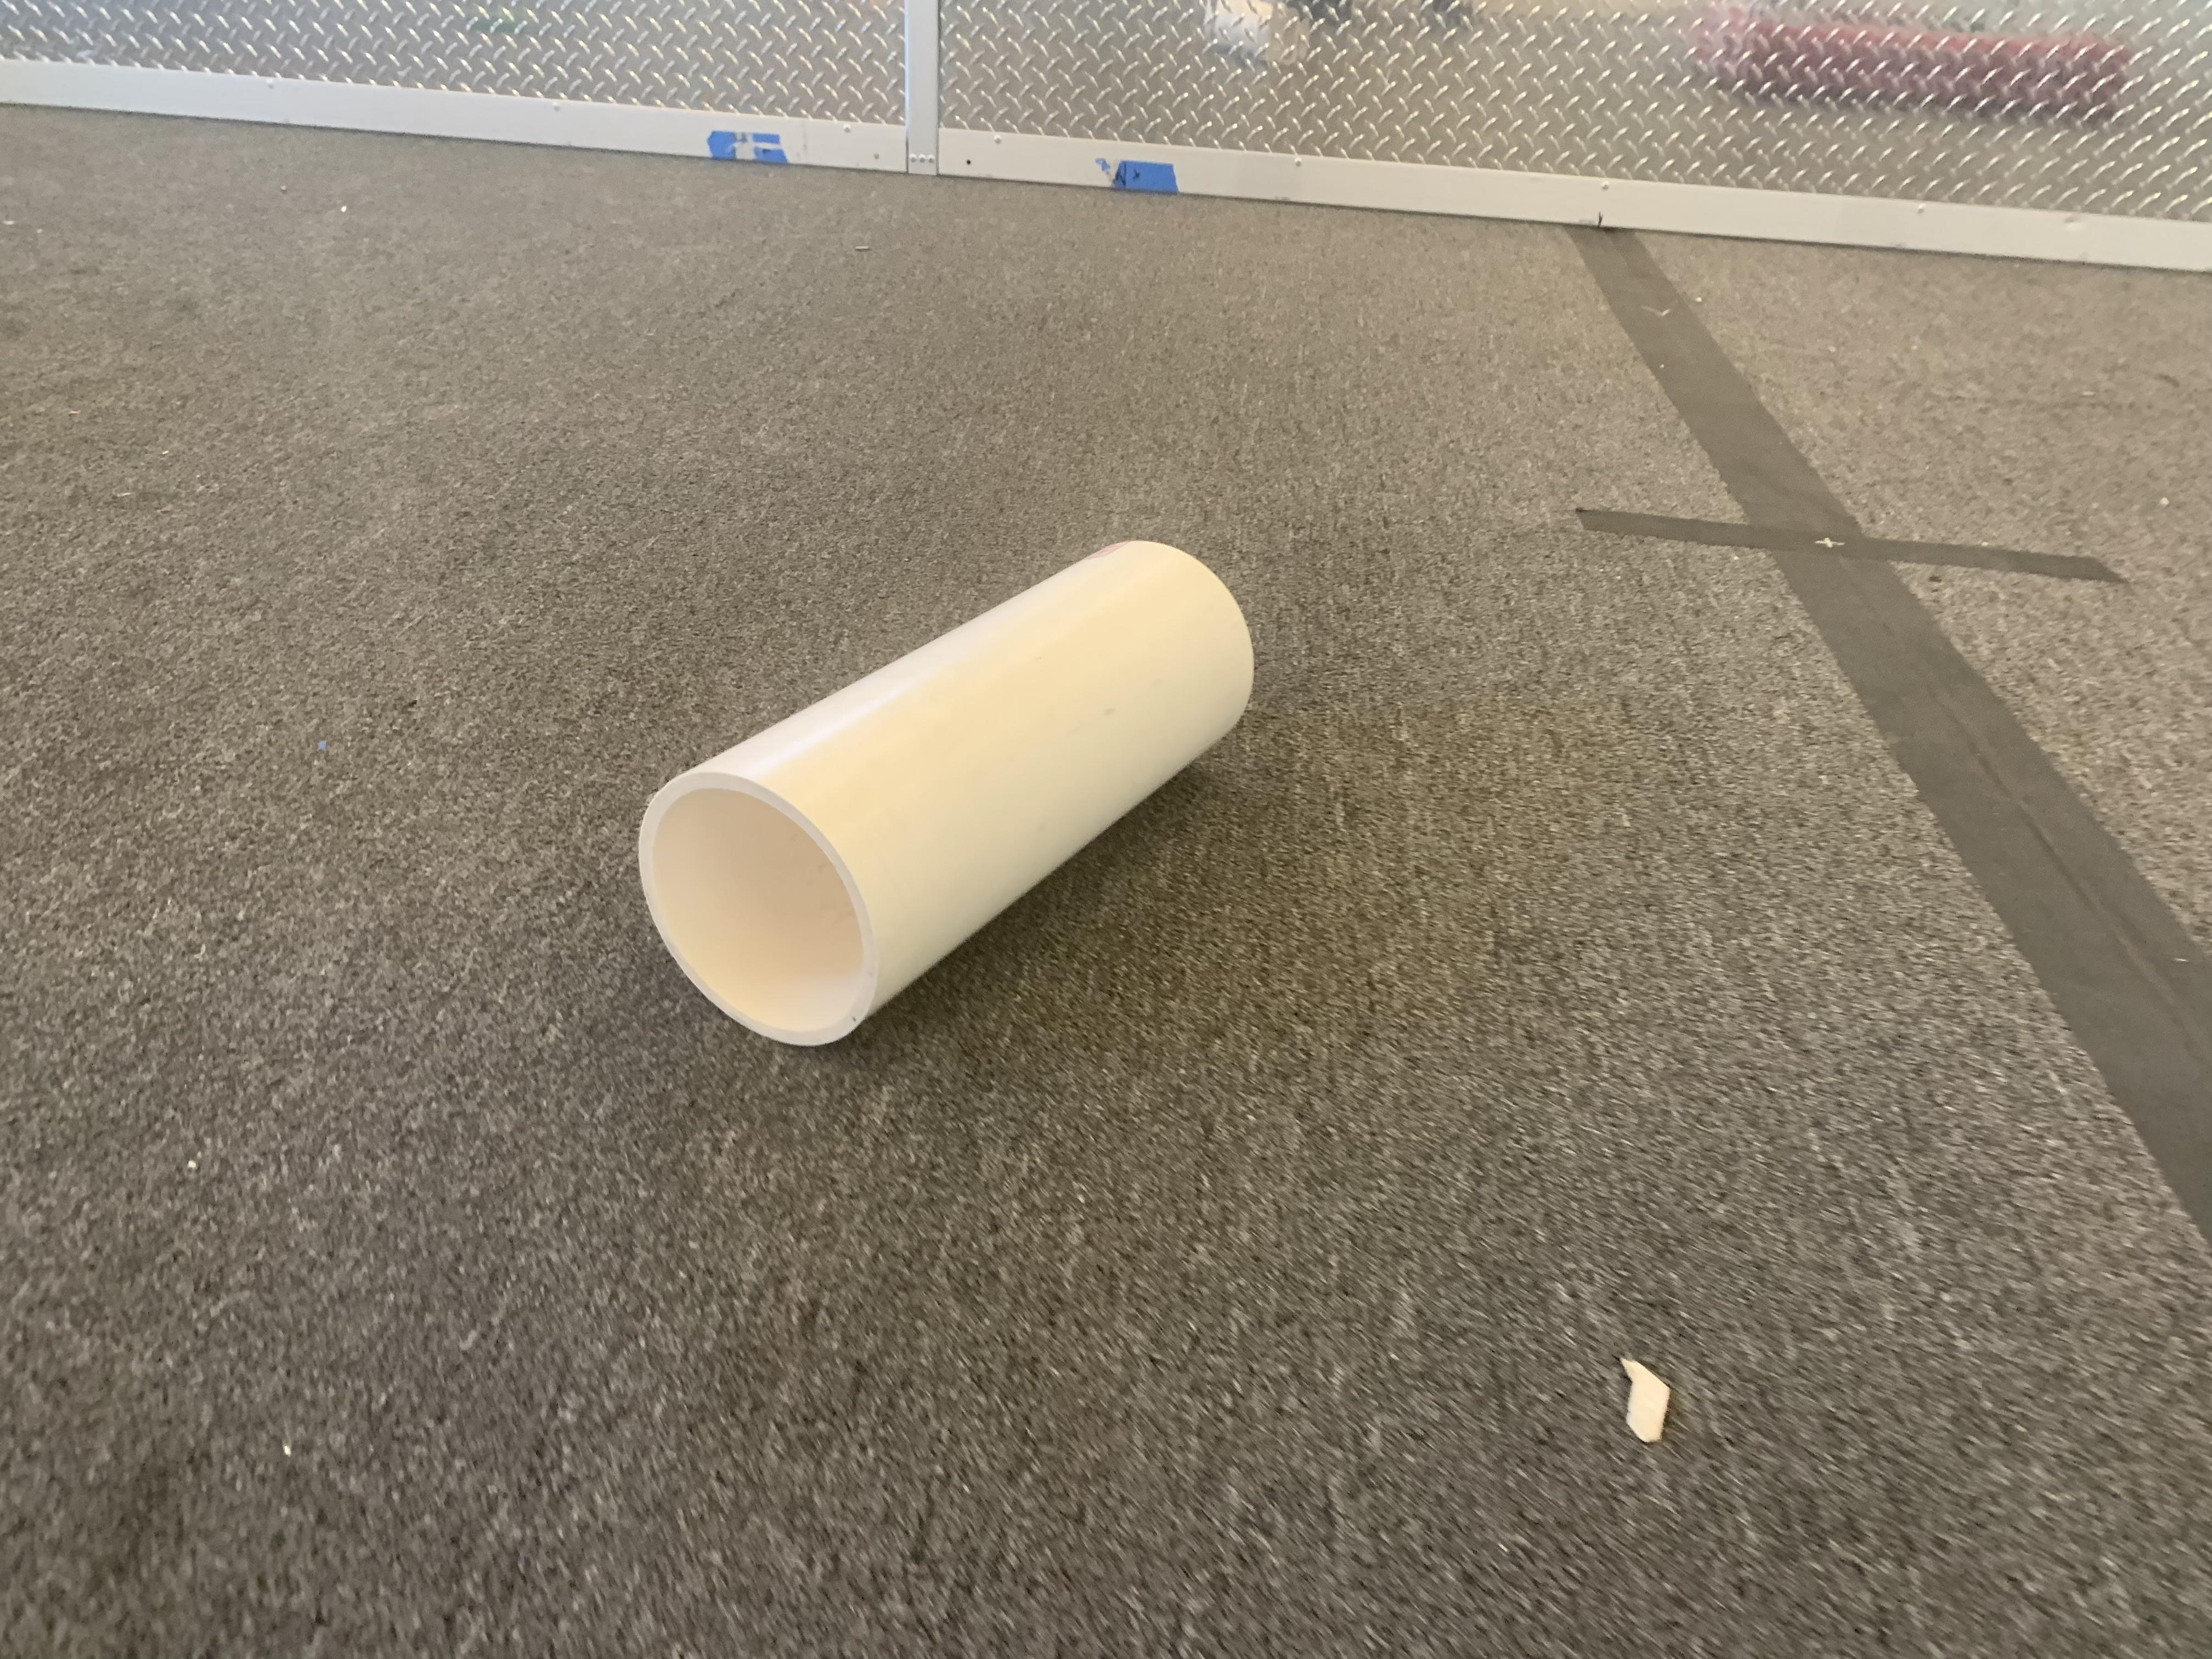coral: (632, 533, 1257, 1050)
